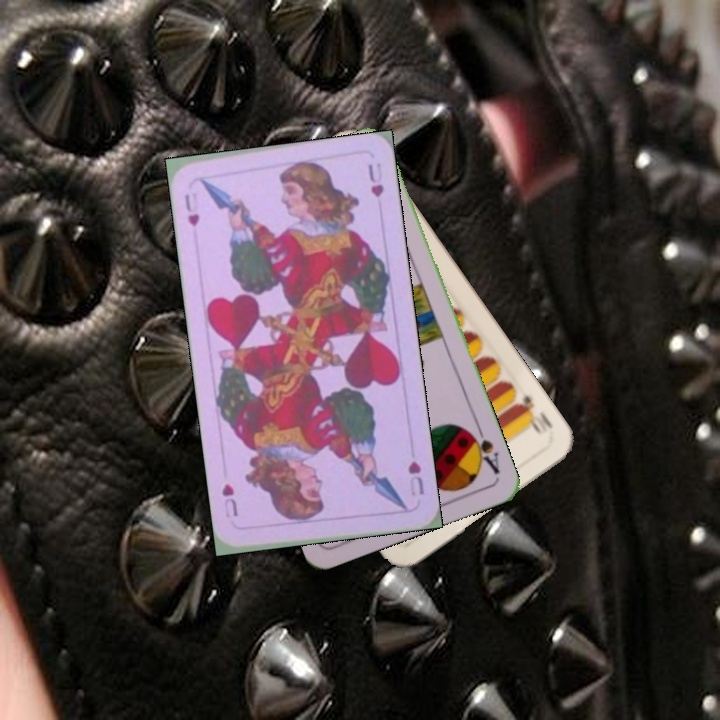E10: (512, 391, 555, 437)
HU: (404, 457, 427, 498), (181, 190, 202, 229)
SA: (463, 421, 503, 477)
